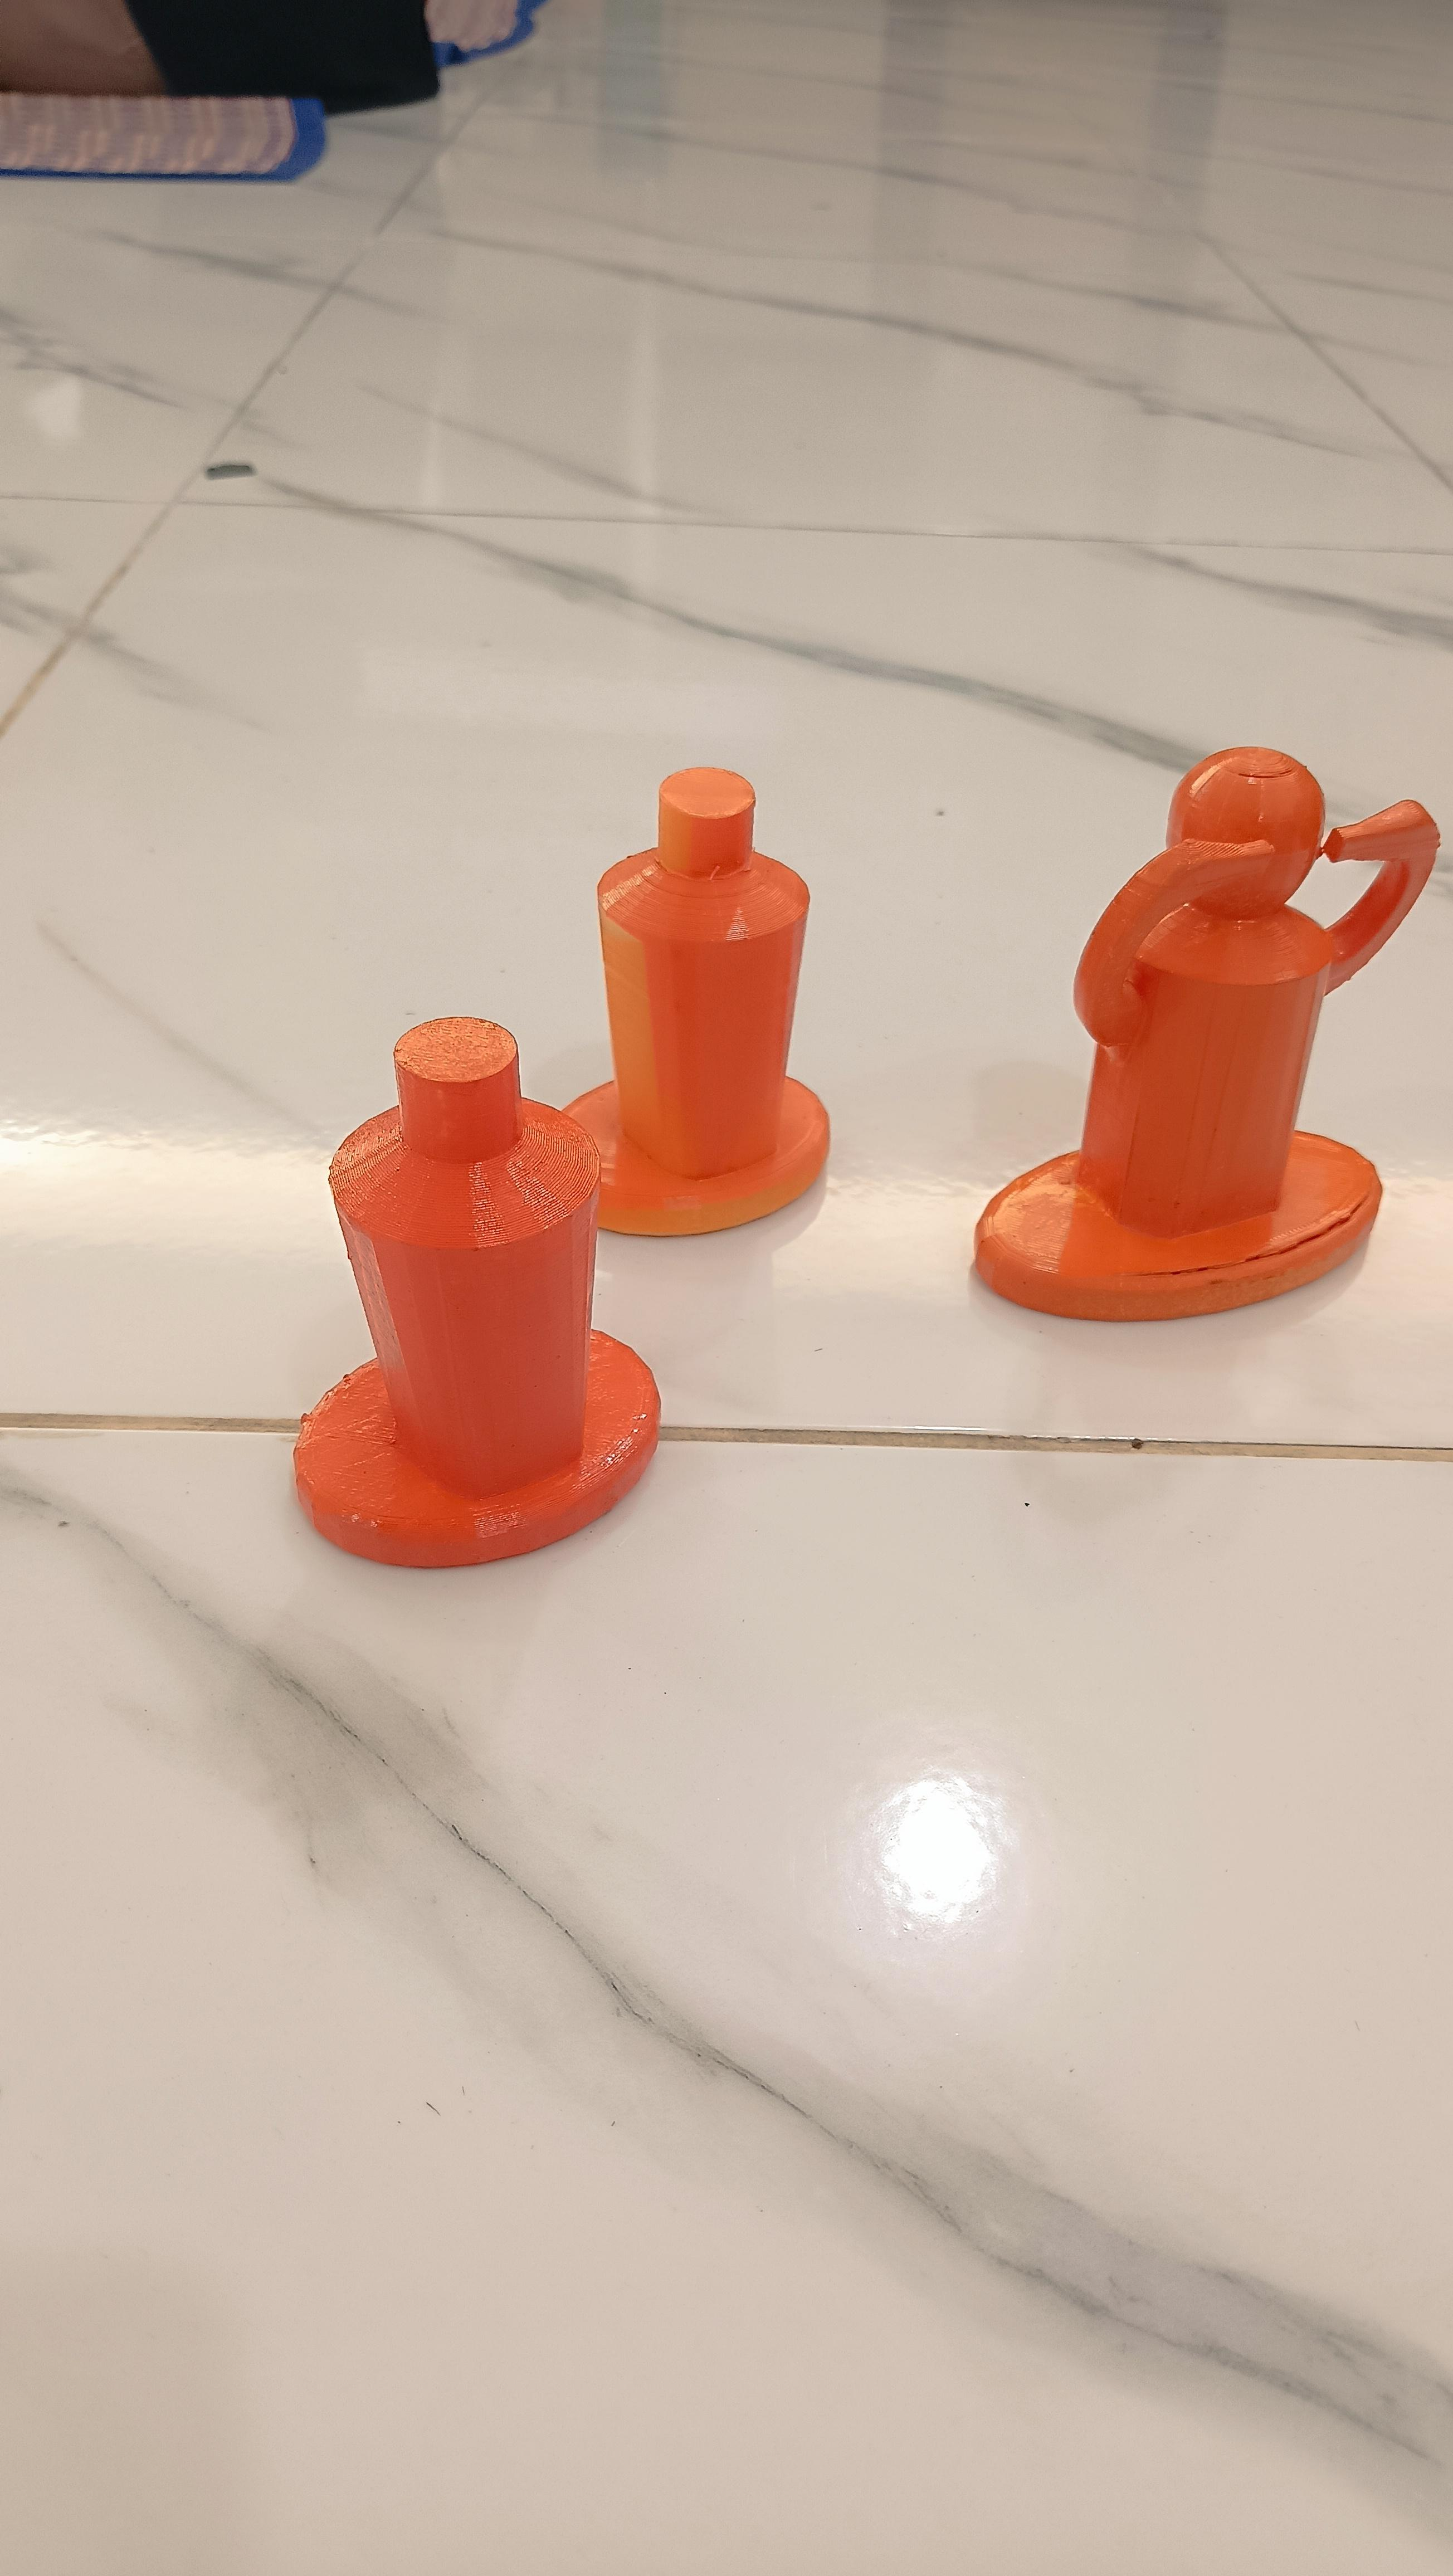dummy: (214, 983, 682, 1610), (510, 696, 870, 1284)
real_person: (964, 655, 1442, 1366)
